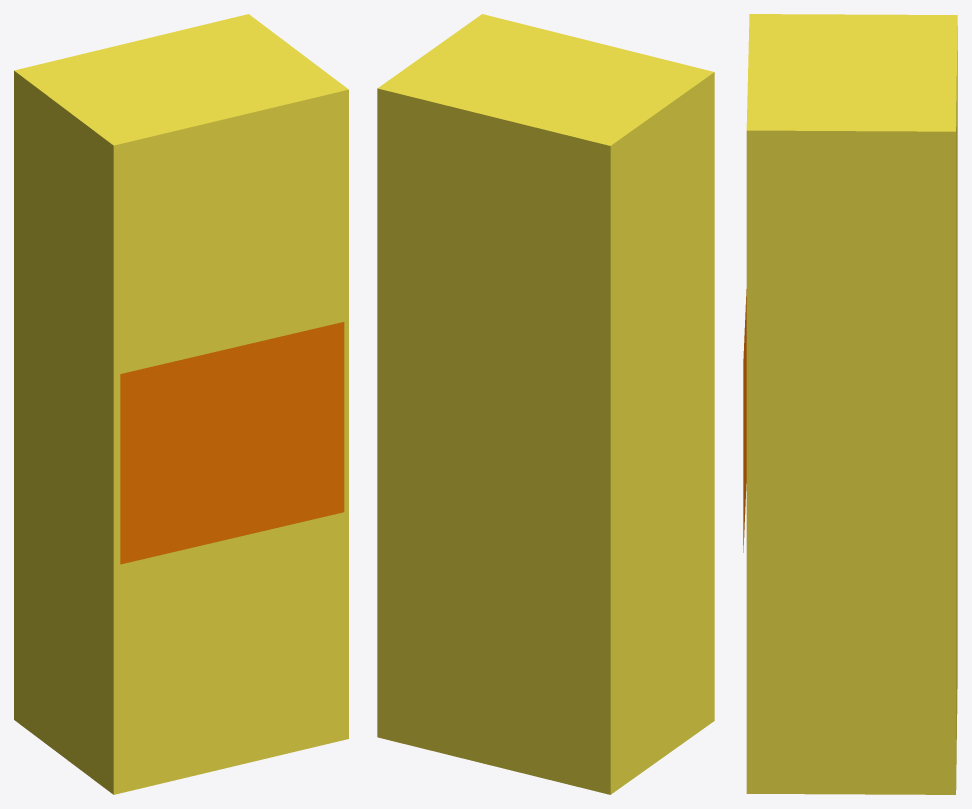
The model's file is shop_023.glb.
The picture shows the model from 3 angles, left to right: view 1: azimuth 30°, elevation 25°; view 2: azimuth 150°, elevation 25°; view 3: azimuth 270°, elevation 25°; orthographic projection. The views are drawn at different scales.
Parts seen in each view (by area): view 1: shop_023; view 2: shop_023; view 3: shop_023.
Boxes of the visible parts, x1=… form: shop_023: x1=14, y1=14, x2=348, y2=794; shop_023: x1=377, y1=14, x2=714, y2=794; shop_023: x1=743, y1=14, x2=957, y2=794.
Bounding box in the file's own units: 0.1029 × 0.2705 × 0.0792.
1 material, 1 textured.
